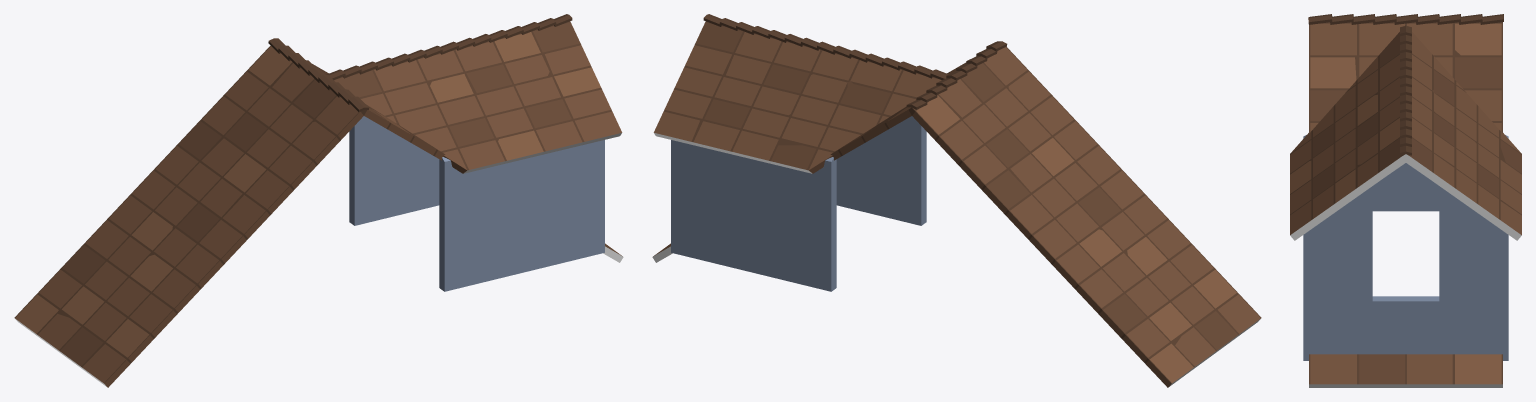
Rendered from Roof2_C9_06.fbx.
The picture shows the model from 3 angles, left to right: view 1: azimuth 30°, elevation 25°; view 2: azimuth 150°, elevation 25°; view 3: azimuth 270°, elevation 25°; orthographic projection. The views are drawn at different scales.
Visible parts, largest first — view 1: Roof2_C9_06; view 2: Roof2_C9_06; view 3: Roof2_C9_06.
Boxes of the visible parts, x1,y1,x2,y2 form: Roof2_C9_06: (14, 14, 623, 387); Roof2_C9_06: (652, 14, 1261, 387); Roof2_C9_06: (1290, 14, 1521, 387).
Size of the model in its own units: 833 by 339 by 299.
